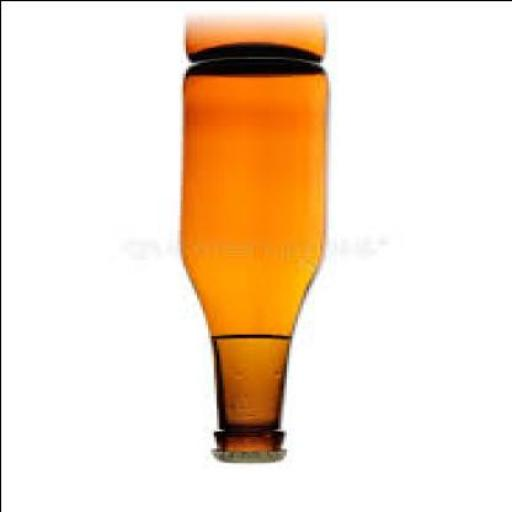glass: (176, 52, 325, 456)
metal: (210, 451, 280, 463)
